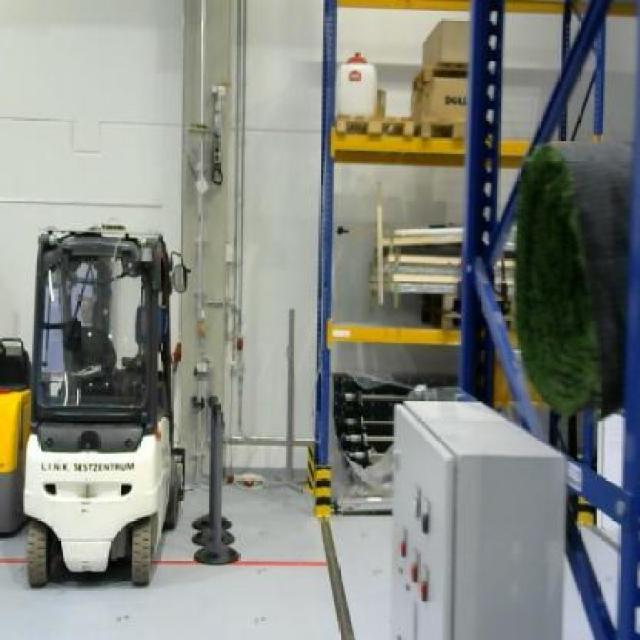box: (408, 76, 468, 124), (420, 18, 468, 74)
